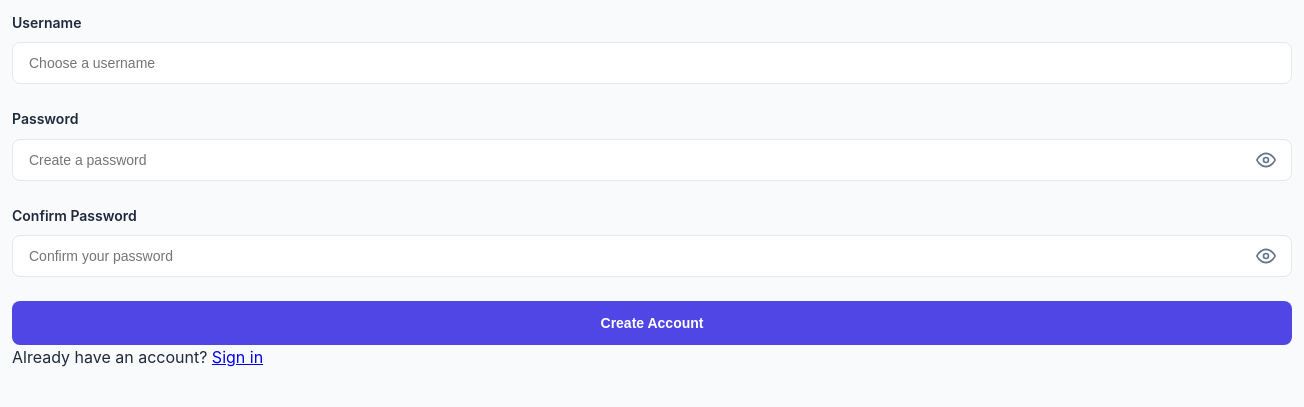
Test: RegisterForm › Form validation › should show validation error for password without letter
The width and height of the screenshot is (1304, 407).
Type "12345678" into the password field labelled "Password" at (652, 160), box [12,139,1292,181]
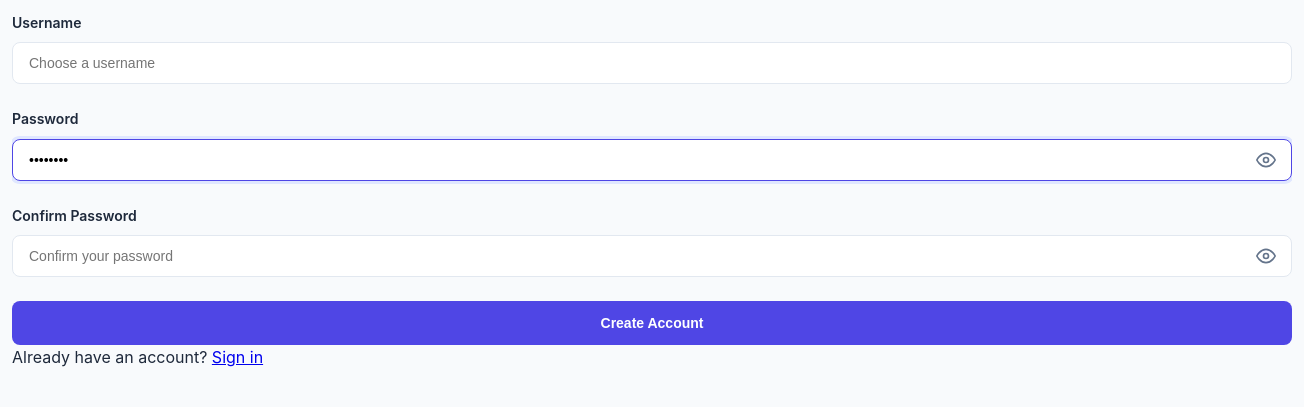
Press Tab
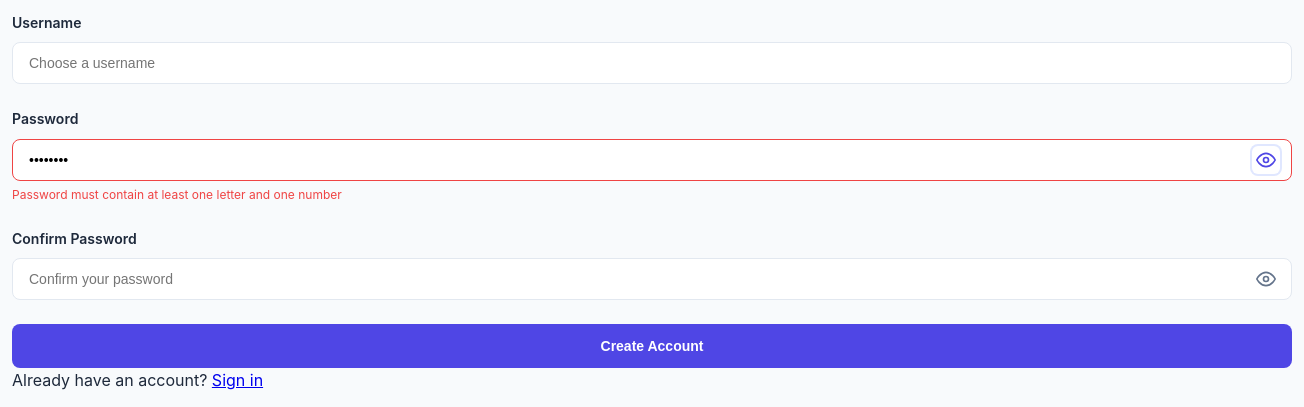
Check: the text "Password must contain at least one letter and one number" is shown, box [12,187,342,202]
